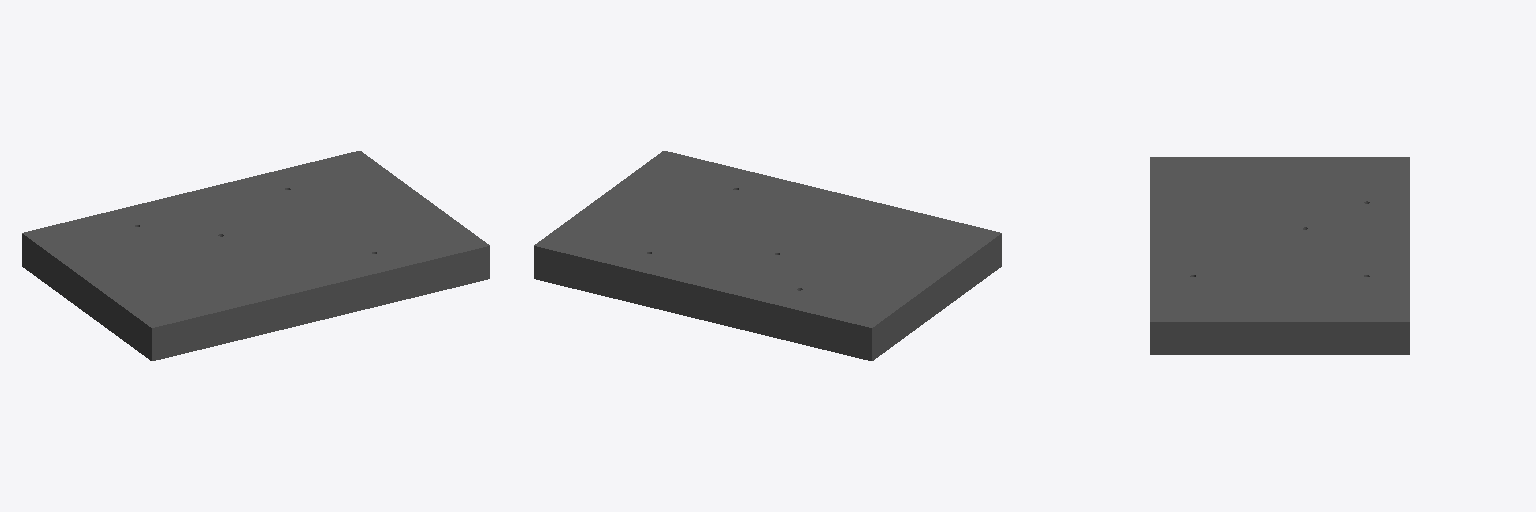
File: rect3.obj
The picture shows the model from 3 angles: view 1: azimuth 30°, elevation 25°; view 2: azimuth 150°, elevation 25°; view 3: azimuth 270°, elevation 25°; orthographic projection.
Visible parts, largest first — view 1: StainlessSteel_rect3; view 2: StainlessSteel_rect3; view 3: StainlessSteel_rect3.
Boxes of the visible parts, x1,y1,x2,y2 form: StainlessSteel_rect3: [22, 151, 489, 360]; StainlessSteel_rect3: [534, 151, 1001, 360]; StainlessSteel_rect3: [1150, 157, 1409, 354].
Bounding box in the file's own units: 0.135 × 0.0127 × 0.09.